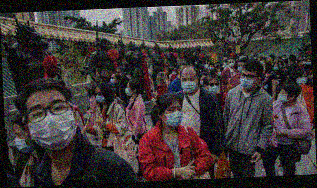mask_weared_incorrect: (172, 70, 177, 75)
with_mask: (26, 97, 77, 152), (163, 104, 184, 128), (14, 130, 33, 154), (179, 75, 198, 93), (240, 71, 257, 89), (295, 73, 308, 86), (207, 80, 219, 94), (94, 90, 106, 103), (278, 90, 289, 102), (124, 84, 132, 97), (237, 63, 245, 73), (199, 76, 207, 86), (109, 75, 117, 84), (228, 59, 235, 67), (272, 65, 280, 71), (216, 69, 222, 76), (306, 59, 312, 65), (209, 64, 214, 70)
